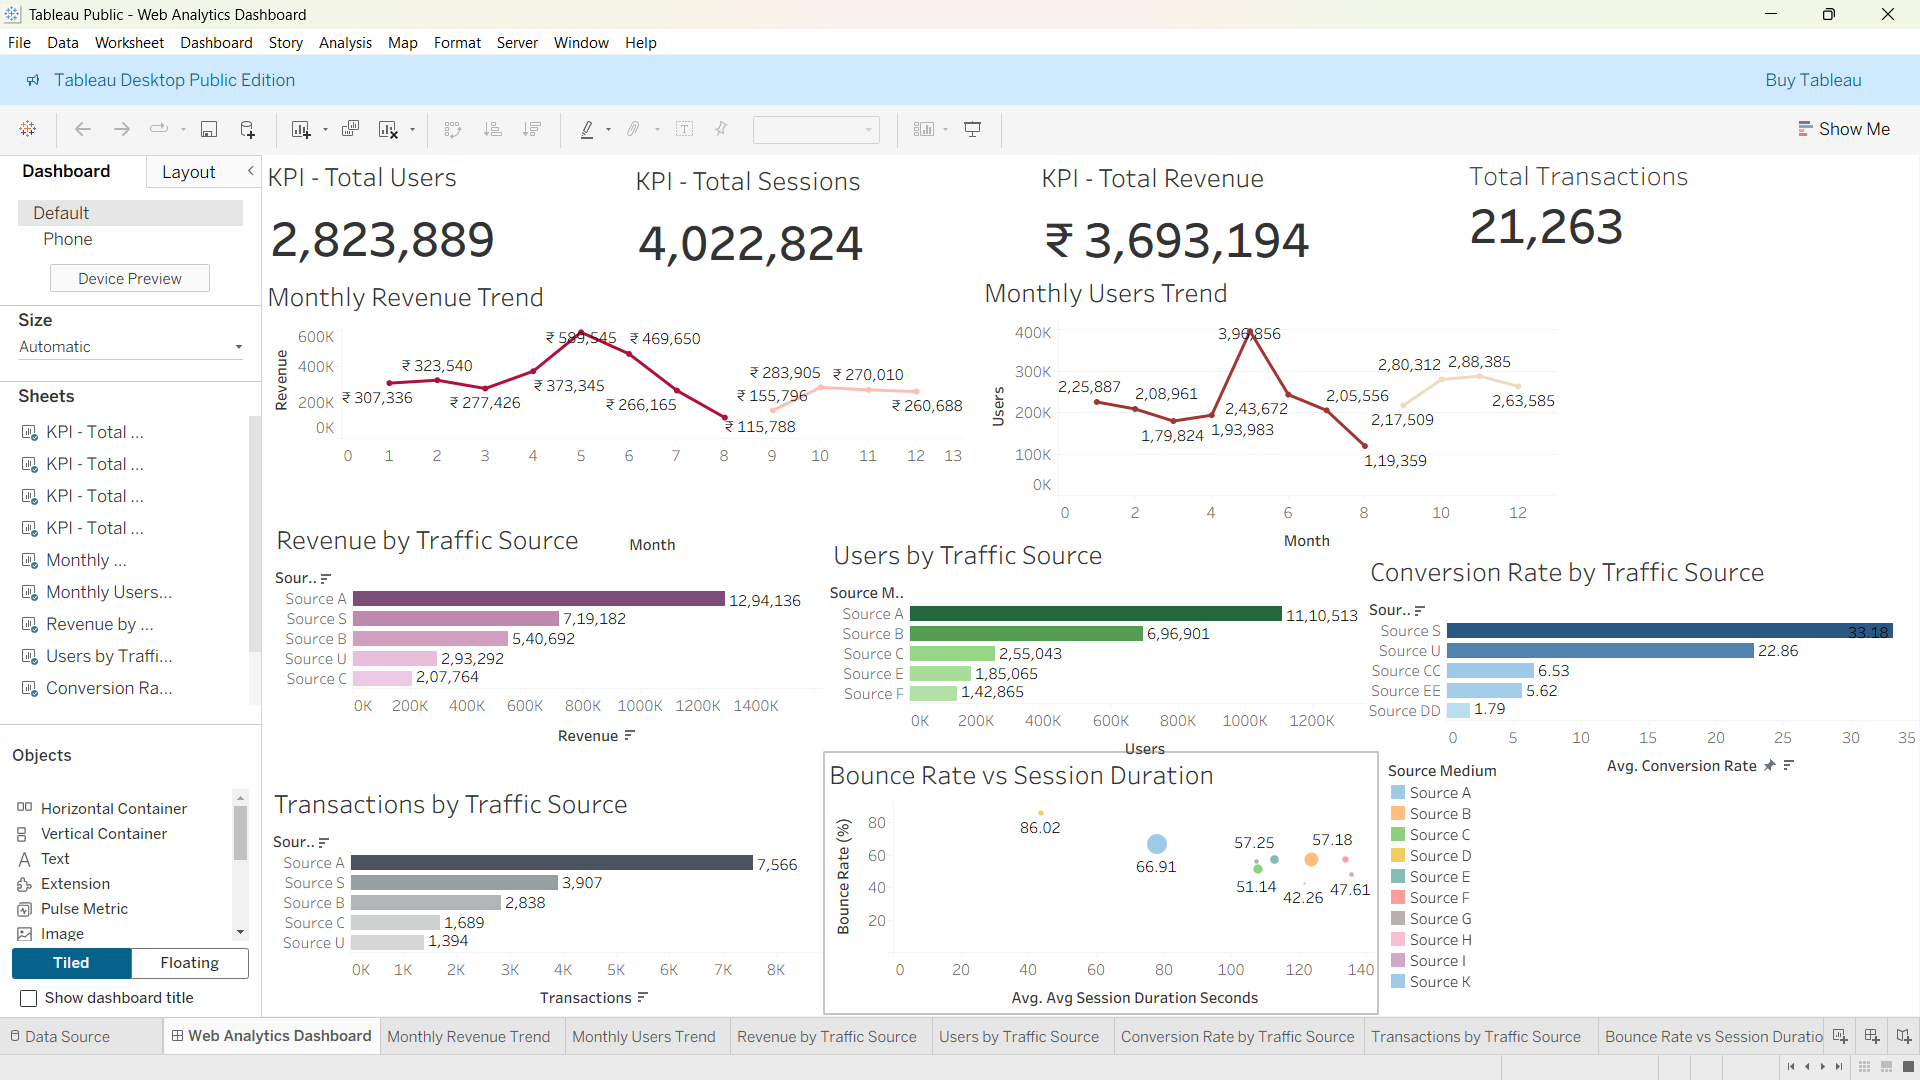

This screenshot's page, from the dashboard's own definition file:
{"tool":"tableau","page":{"name":"Web Analytics Dashboard","canvas":[1000,1000],"units":"permille","ordinal":0},"visuals":[{"type":"worksheet","title":"KPI - Total Users","mark":"Automatic","box":[0.6,0,333.1,142.9]},{"type":"worksheet","title":"KPI - Total Revenue","mark":"Automatic","box":[467.7,1.2,333.1,148.7]},{"type":"worksheet","title":"KPI - Total Sessions","mark":"Automatic","box":[222.7,4.7,333.1,142.9]},{"type":"worksheet","title":"Monthly Users Trend","mark":"Automatic","rows":["users"],"cols":["month"],"box":[433.2,134.7,347.7,333.3]},{"type":"worksheet","title":"Monthly Revenue Trend","mark":"Automatic","rows":["revenue"],"cols":["month"],"box":[0.6,139.4,422.9,333.3]},{"type":"worksheet","title":"Revenue by Traffic Source","mark":"Automatic","rows":["source_medium"],"cols":["revenue"],"box":[6.1,421.6,333.1,313.6]},{"type":"worksheet","title":"Users by Traffic Source","mark":"Automatic","rows":["source_medium"],"cols":["users"],"box":[342.2,439,333.1,270.6]},{"type":"worksheet","title":"Conversion Rate by Traffic Source","mark":"Automatic","rows":["source_medium"],"cols":["conversion_rate"],"box":[666.3,458.8,333.1,274.1]},{"type":"worksheet","title":"Bounce Rate vs Session Duration","mark":"Circle","rows":["Calculation_0126191713558528"],"cols":["avg_session_duration_seconds"],"box":[339.8,694.5,333.1,304.3]},{"type":"legend","title":"Bounce Rate vs Session Duration","param":"[federated.14i3cce0f1cpow1fq1d9z0f94ode].[none:source_medium:nk]","box":[679.6,702.7,85,269.4]},{"type":"worksheet","title":"Transactions by Traffic Source","mark":"Automatic","rows":["source_medium"],"cols":["transactions"],"box":[4.9,728.2,333.1,272.9]}]}

Visuals, with their boxes on the dashboard's canvas, which has no fixed pixel size, in thousandths of its width and height (x1, y1, x2, y2). These are canvas units, not pixel positions in the 1920x1080 screenshot, which may show the page scaled, cropped or inside an application window:
"KPI - Total Users" worksheet: [left=1, top=0, right=334, bottom=143]
"KPI - Total Revenue" worksheet: [left=468, top=1, right=801, bottom=150]
"KPI - Total Sessions" worksheet: [left=223, top=5, right=556, bottom=148]
"Monthly Users Trend" worksheet: [left=433, top=135, right=781, bottom=468]
"Monthly Revenue Trend" worksheet: [left=1, top=139, right=424, bottom=473]
"Revenue by Traffic Source" worksheet: [left=6, top=422, right=339, bottom=735]
"Users by Traffic Source" worksheet: [left=342, top=439, right=675, bottom=710]
"Conversion Rate by Traffic Source" worksheet: [left=666, top=459, right=999, bottom=733]
"Bounce Rate vs Session Duration" worksheet (Circle marks): [left=340, top=694, right=673, bottom=999]
"Bounce Rate vs Session Duration" legend: [left=680, top=703, right=765, bottom=972]
"Transactions by Traffic Source" worksheet: [left=5, top=728, right=338, bottom=1001]
